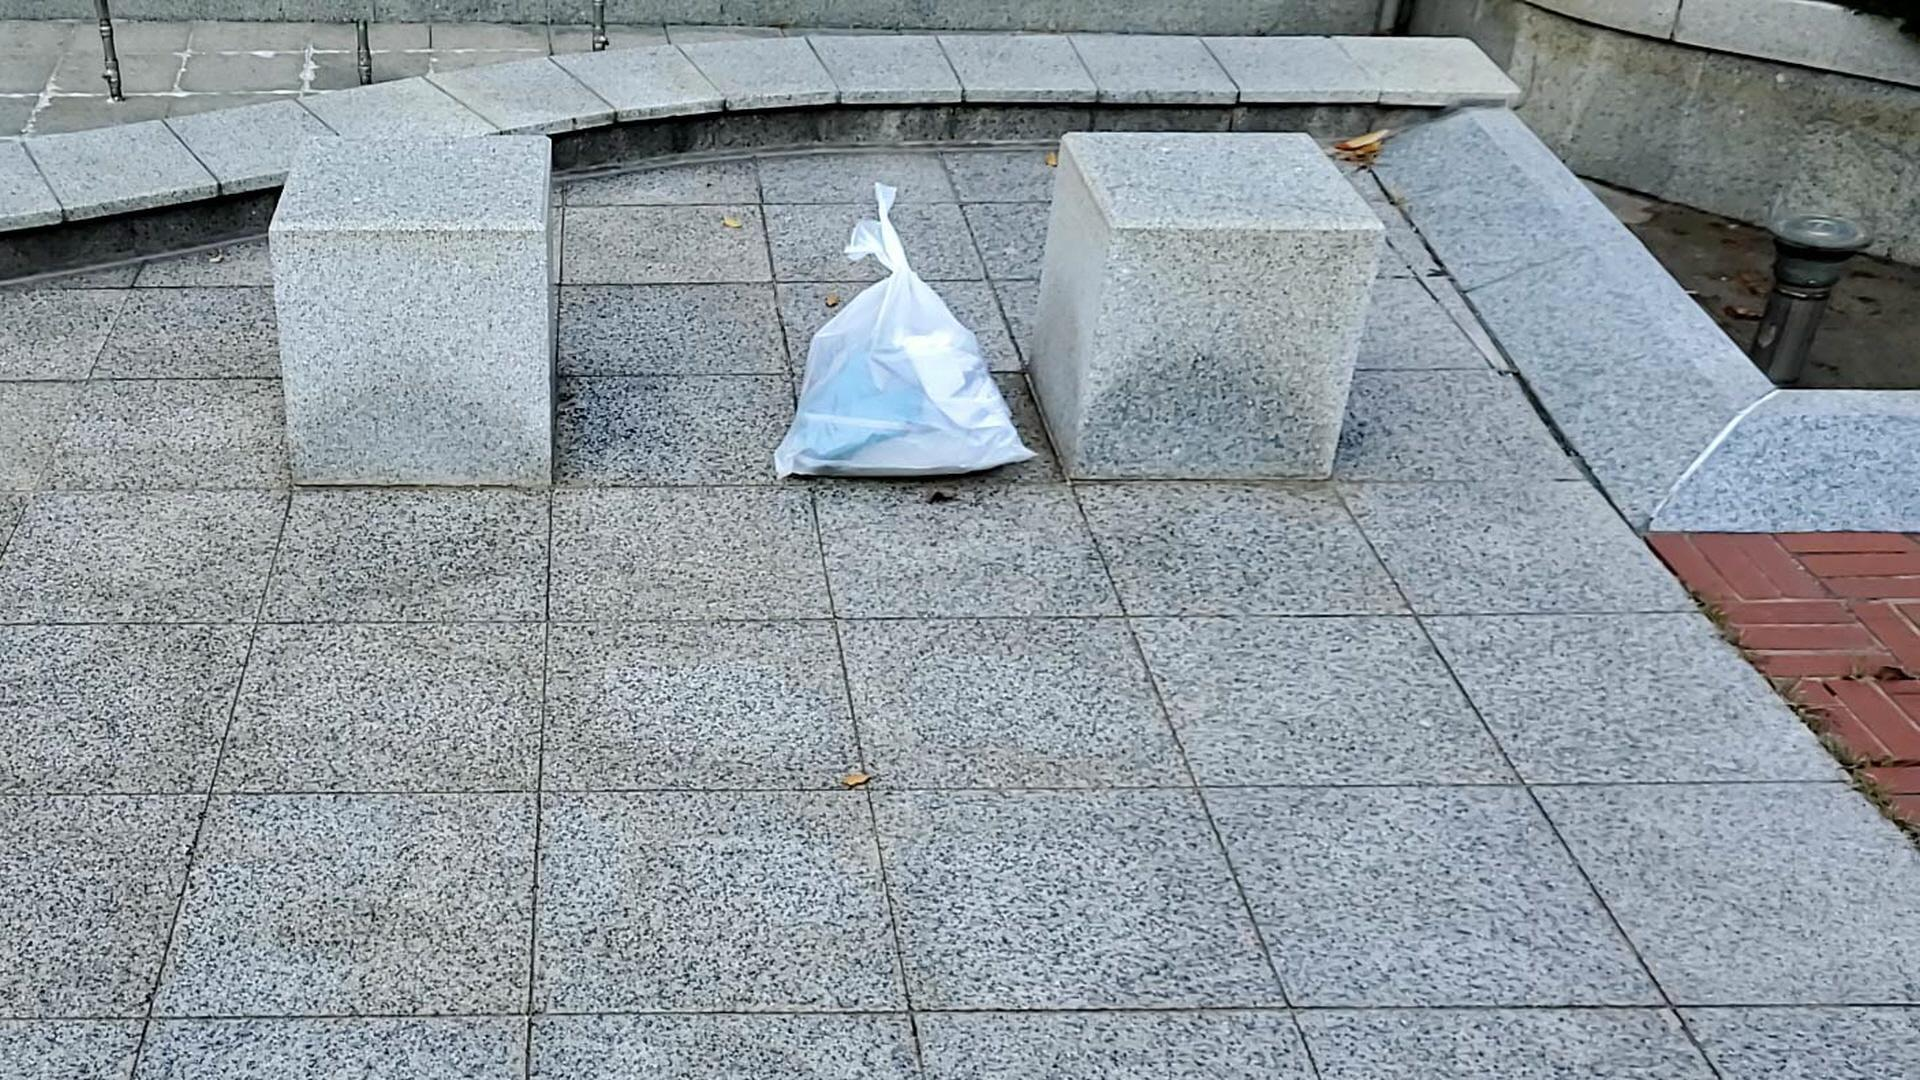white_bag: (750, 179, 1055, 492)
